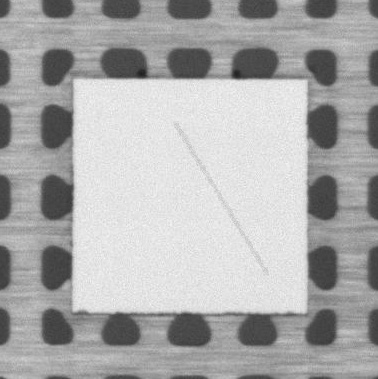DIE_CRACK: (176, 124, 266, 274)
